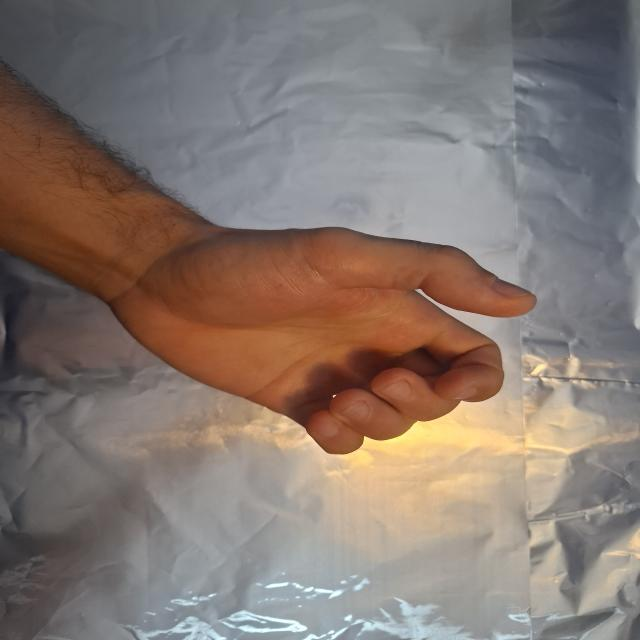glove_off: (98, 216, 542, 457)
